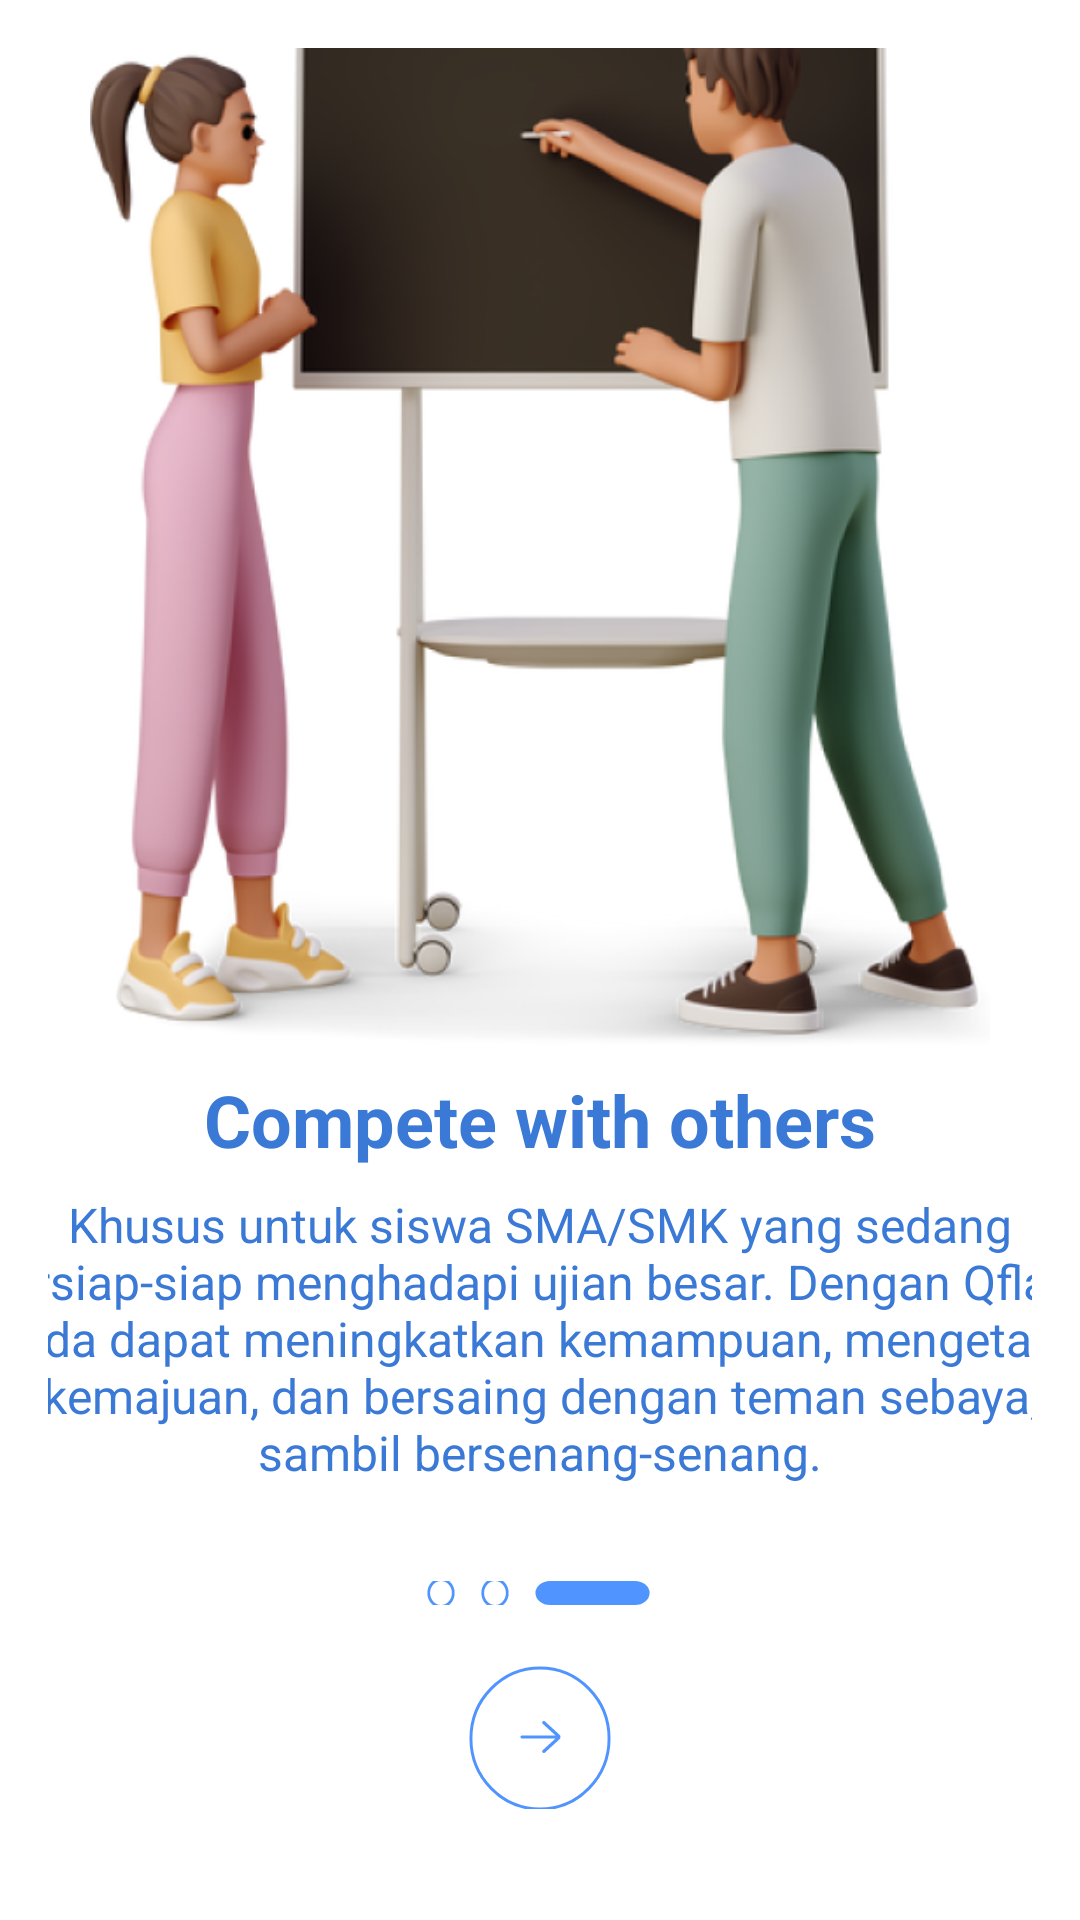

Icons on this 1080x1920 Android screen, each with its box as (x1, y1, x2, y2):
arrow right: (469, 1666, 611, 1809)
